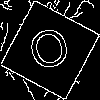O: (25, 25, 76, 81)
